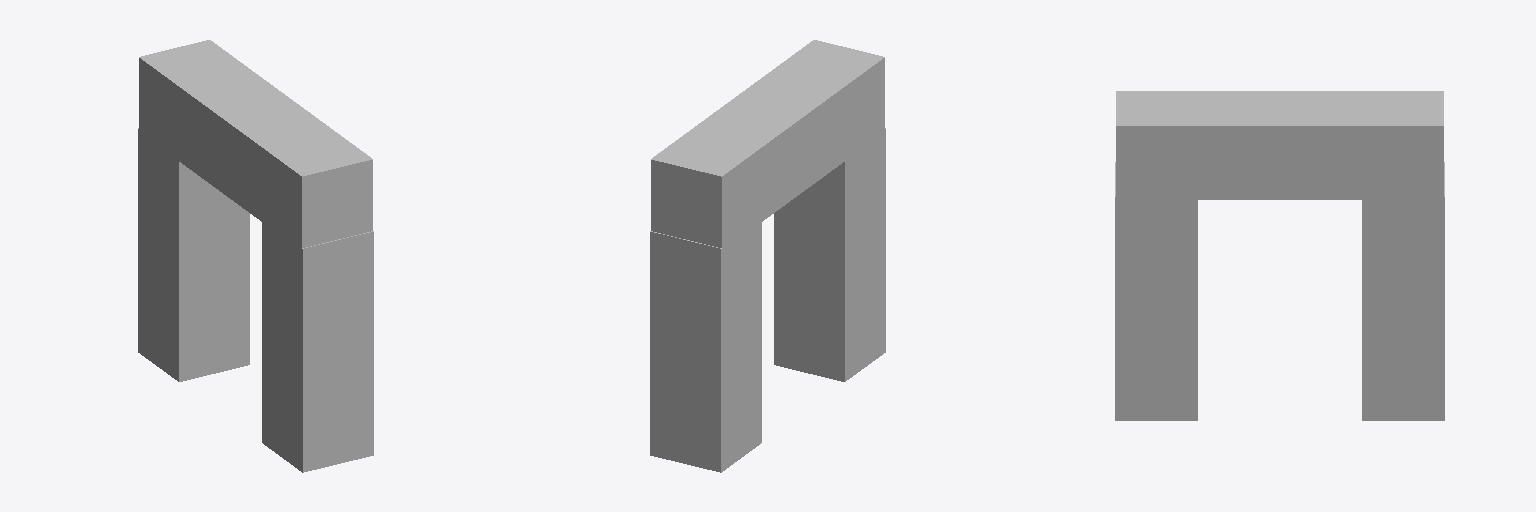
Rendered from Portal.obj.
The picture shows the model from 3 angles: view 1: azimuth 30°, elevation 25°; view 2: azimuth 150°, elevation 25°; view 3: azimuth 270°, elevation 25°; orthographic projection.
Parts seen in each view (by area): view 1: Cube.002; view 2: Cube.002; view 3: Cube.002.
Boxes of the visible parts, <box> form: Cube.002: <box>138,40,373,472</box>; Cube.002: <box>650,40,885,472</box>; Cube.002: <box>1115,91,1444,420</box>.
Bounding box in the file's own units: 2 × 7.92 × 8.